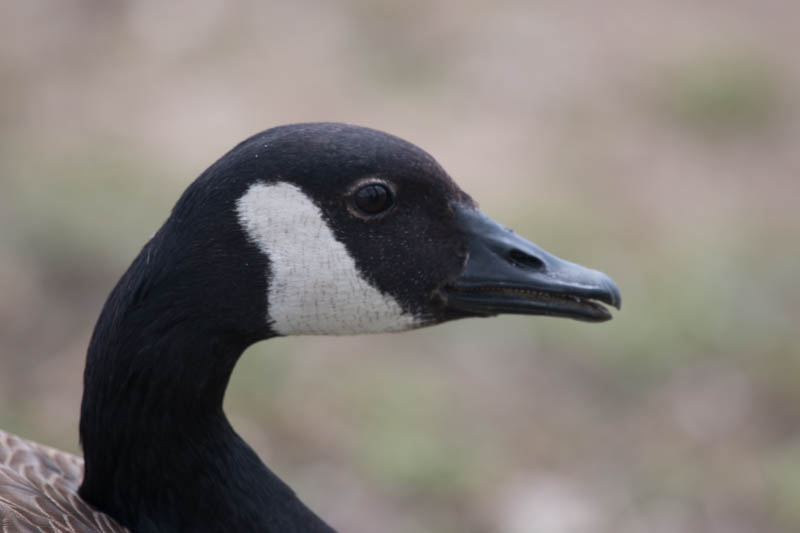goose-head: (160, 122, 622, 339)
